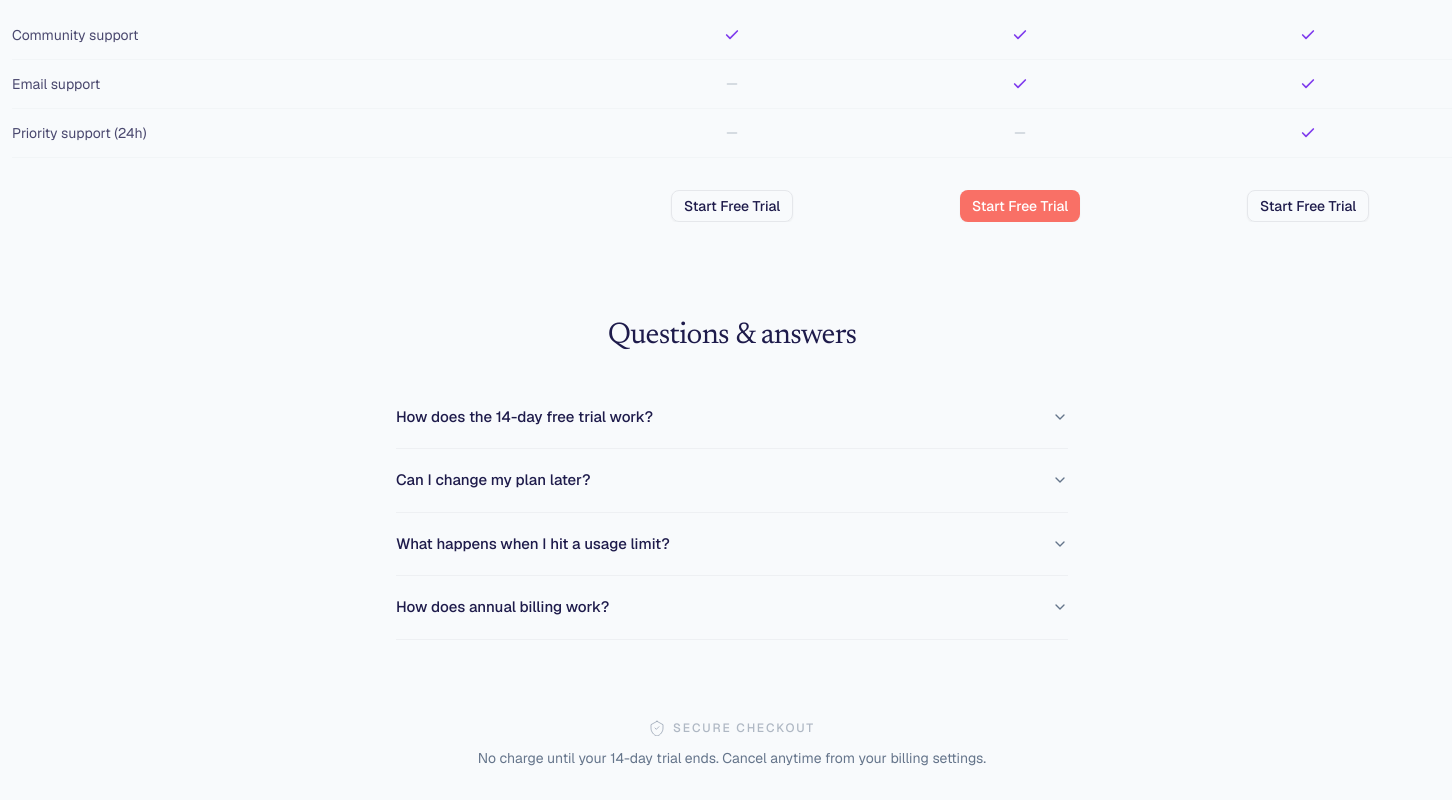
Test: PricingPage › new subscriber (no subscription) › toggles FAQ items on click
(page scrolled)
Click the button "How does the 14-day free trial work?": [525, 416] box [396, 386, 1068, 448]
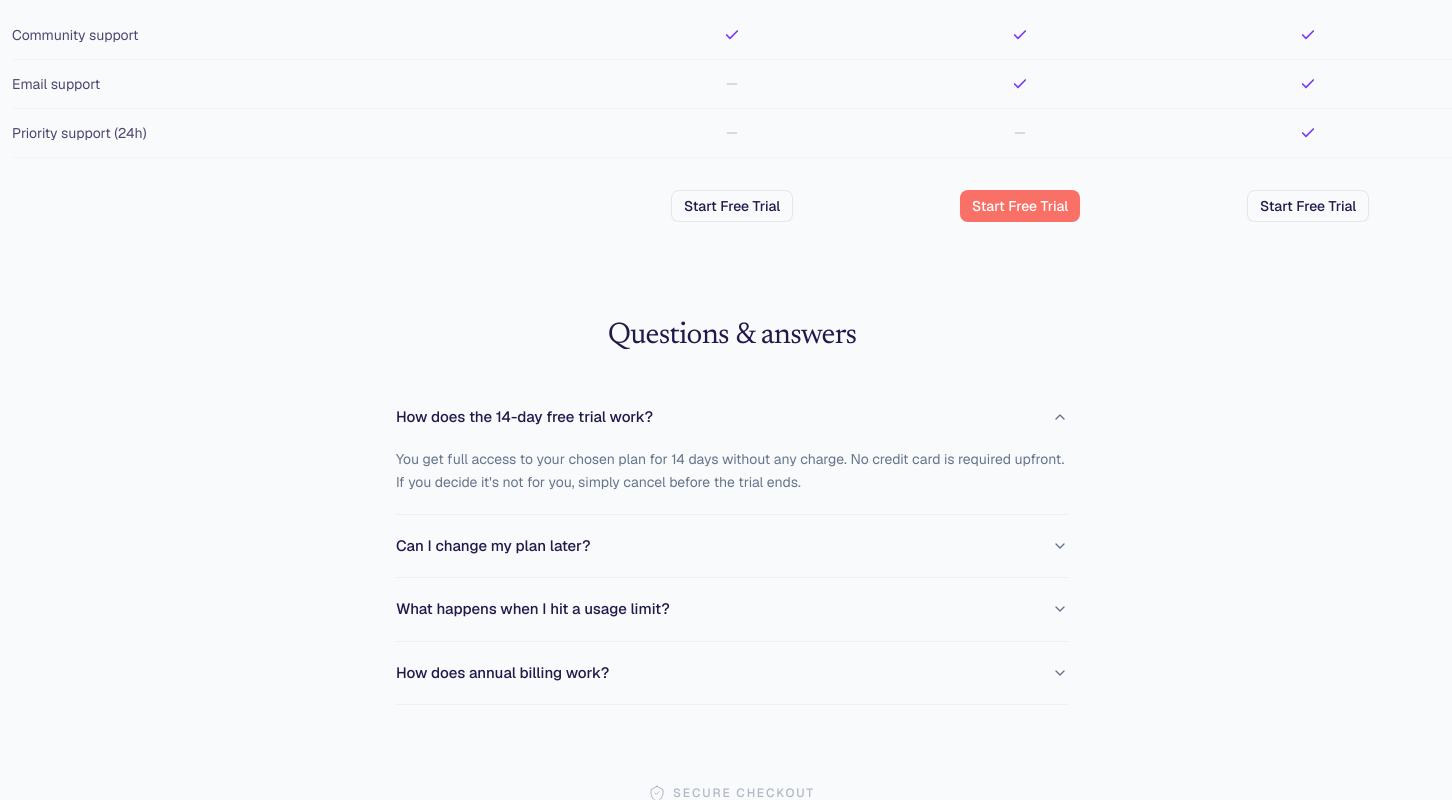
Check: the text "full access to your chosen plan" is shown, box [396, 450, 1064, 491]
